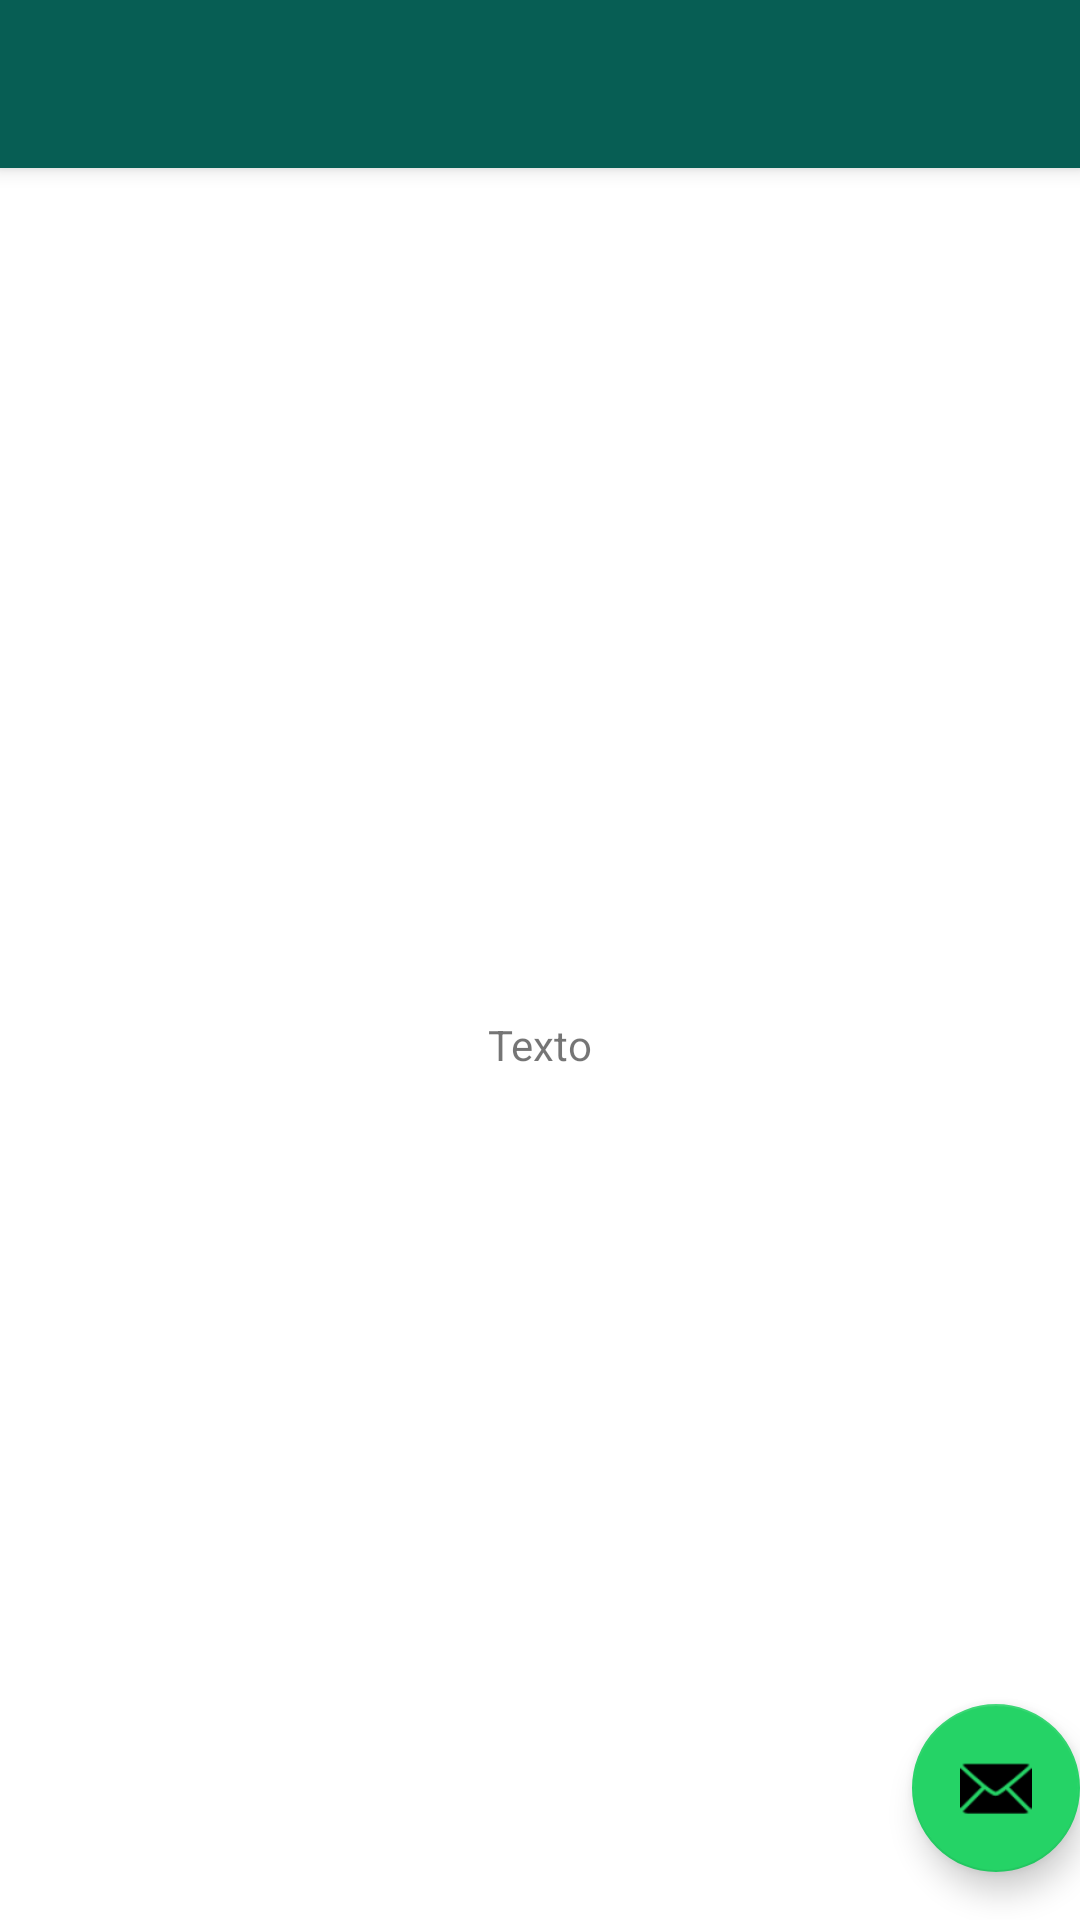

Icon click points for this 1080x1920 phone screenshot, format (x=x, y=y):
Digite seu email: (x=996, y=1788)
